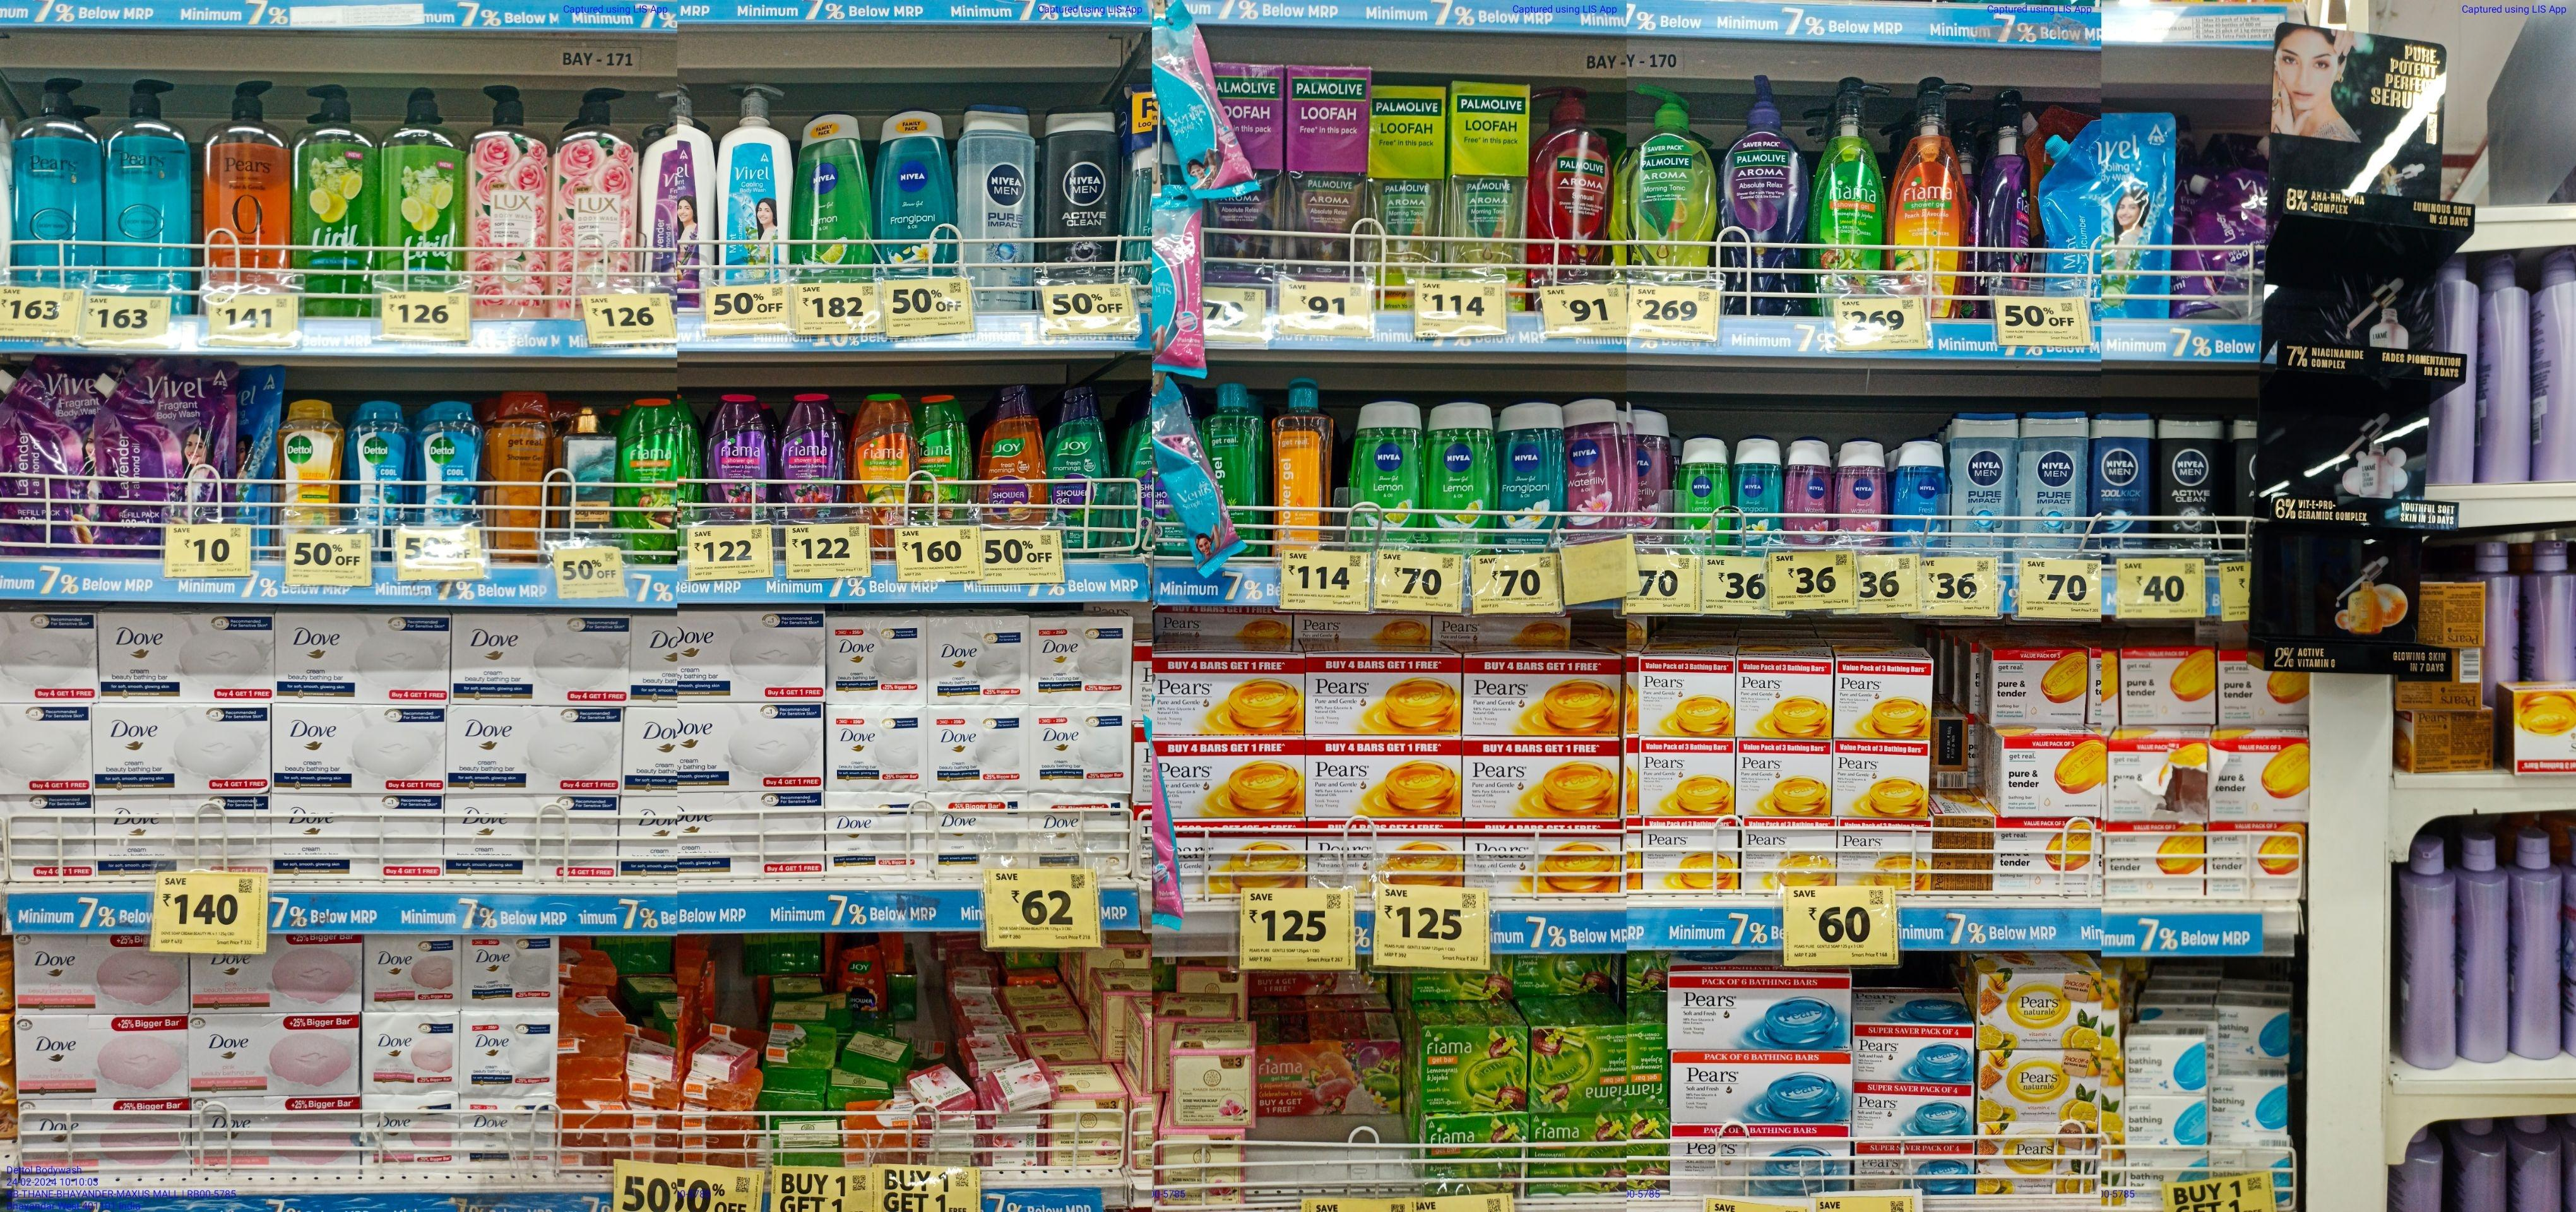Dettol_Bodywash_Cool: (342, 401, 412, 529), (416, 402, 483, 527)
Dettol_Bodywash_Refresh: (283, 402, 340, 537)
Fiama_Shower_Gel_Lemongrass_and_Jojoba_250ML: (618, 396, 685, 562), (912, 386, 968, 522)
Fiama_Shower_Gel_Peach_and_Avocado_250ML: (854, 396, 913, 527)
Get_Real_Shower_Gel_Moisturising_Glycerin_300ML: (493, 393, 549, 558)
Joy_Shower_Gel_Mandarin_and_Lemongrass_250ML: (981, 386, 1043, 522)
Joy_Shower_Gel_Mint_and_Eucalyptus_250ML: (1053, 388, 1116, 540)
Nivea_Shower_Gel_Frangipani_and_Oil_250ML: (879, 113, 954, 278), (1497, 404, 1561, 547), (1736, 440, 1784, 547)
Nivea_Shower_Gel_Lemon_and_Oil_250ML: (792, 117, 874, 284), (1349, 402, 1423, 549), (1424, 402, 1497, 549), (1676, 438, 1732, 552)
Nivea_Shower_Gel_Waterlily_and_Oil_250ML: (1564, 401, 1626, 534), (1838, 442, 1888, 549), (1787, 440, 1837, 544)
